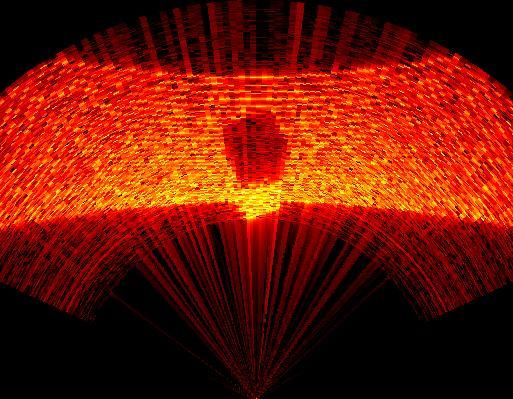box_crate: (224, 112, 291, 188)
